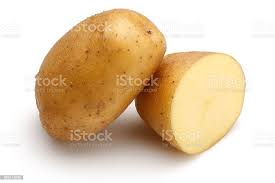potato: (35, 7, 163, 156), (138, 47, 246, 155)
